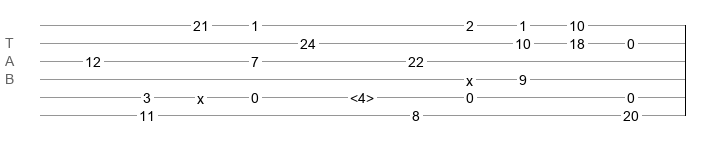0: (251, 90, 259, 100), (466, 90, 474, 100), (627, 90, 635, 100), (627, 36, 635, 46)
1: (251, 18, 259, 28), (519, 18, 527, 28)
10: (515, 36, 531, 46), (569, 18, 585, 28)
11: (139, 108, 155, 118)
12: (85, 54, 101, 64)
18: (569, 36, 585, 46)
2: (466, 18, 474, 28)
20: (623, 108, 639, 118)
21: (193, 18, 209, 28)
22: (408, 54, 424, 64)
24: (300, 36, 316, 46)
3: (143, 90, 151, 100)
7: (251, 54, 259, 64)
8: (412, 108, 420, 118)
9: (519, 72, 527, 82)
harmonic: (350, 90, 374, 100)
x: (197, 91, 204, 99), (466, 73, 473, 81)
